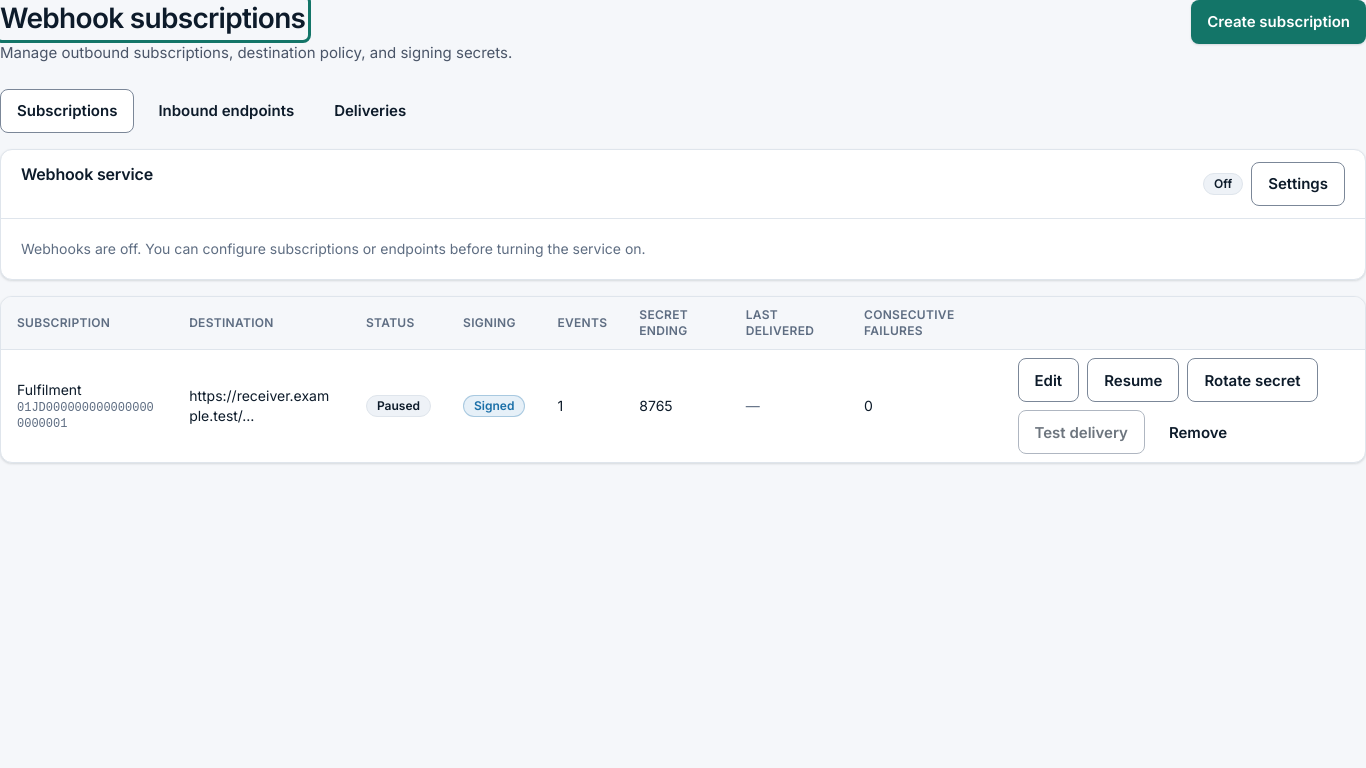
Test: Webhooks administration › offers setup while the service is off and saves only changed settings
Expected: the text "Webhooks are off" is shown, [21,240,646,257]
Click the button "Settings". click: (1298, 184)
box: [1251,162,1345,206]
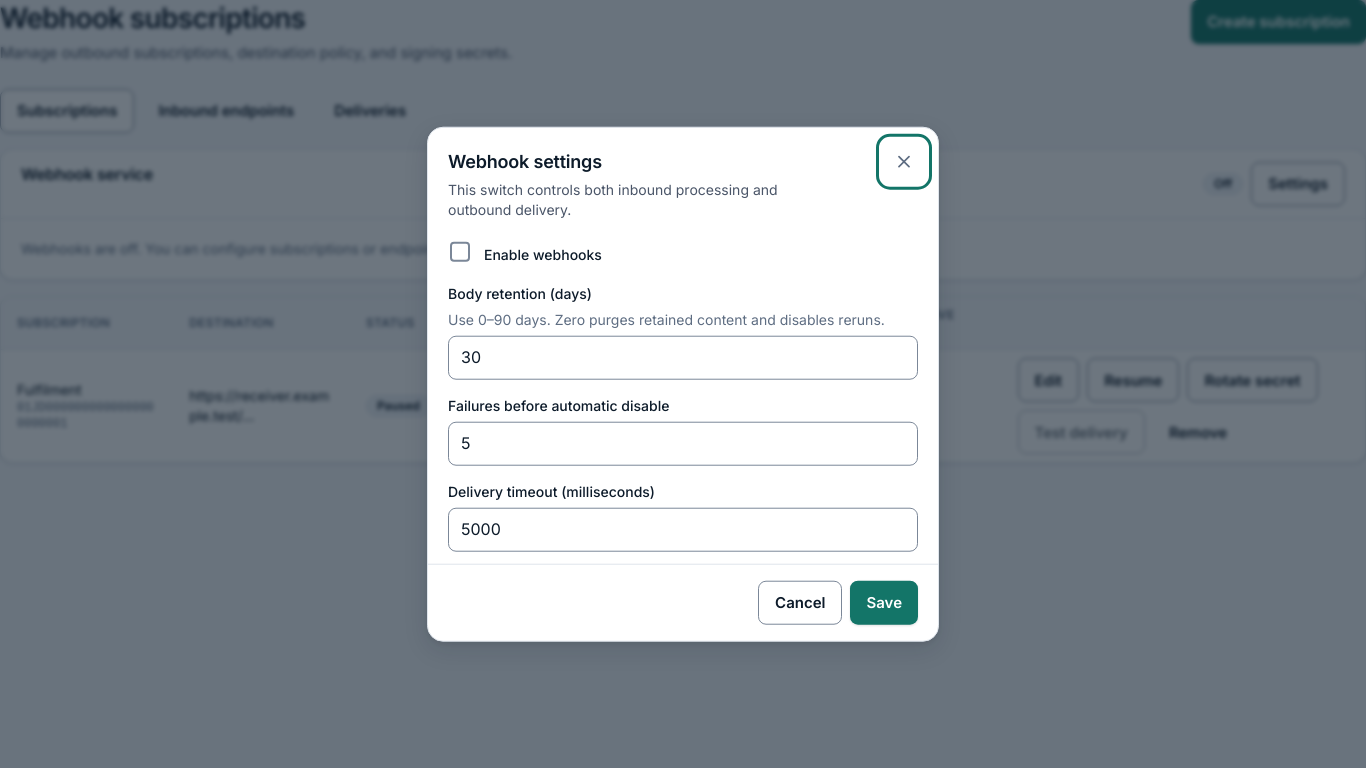
Click the checkbox named "Enable webhooks". click: (460, 252)
box: [450,242,470,262]
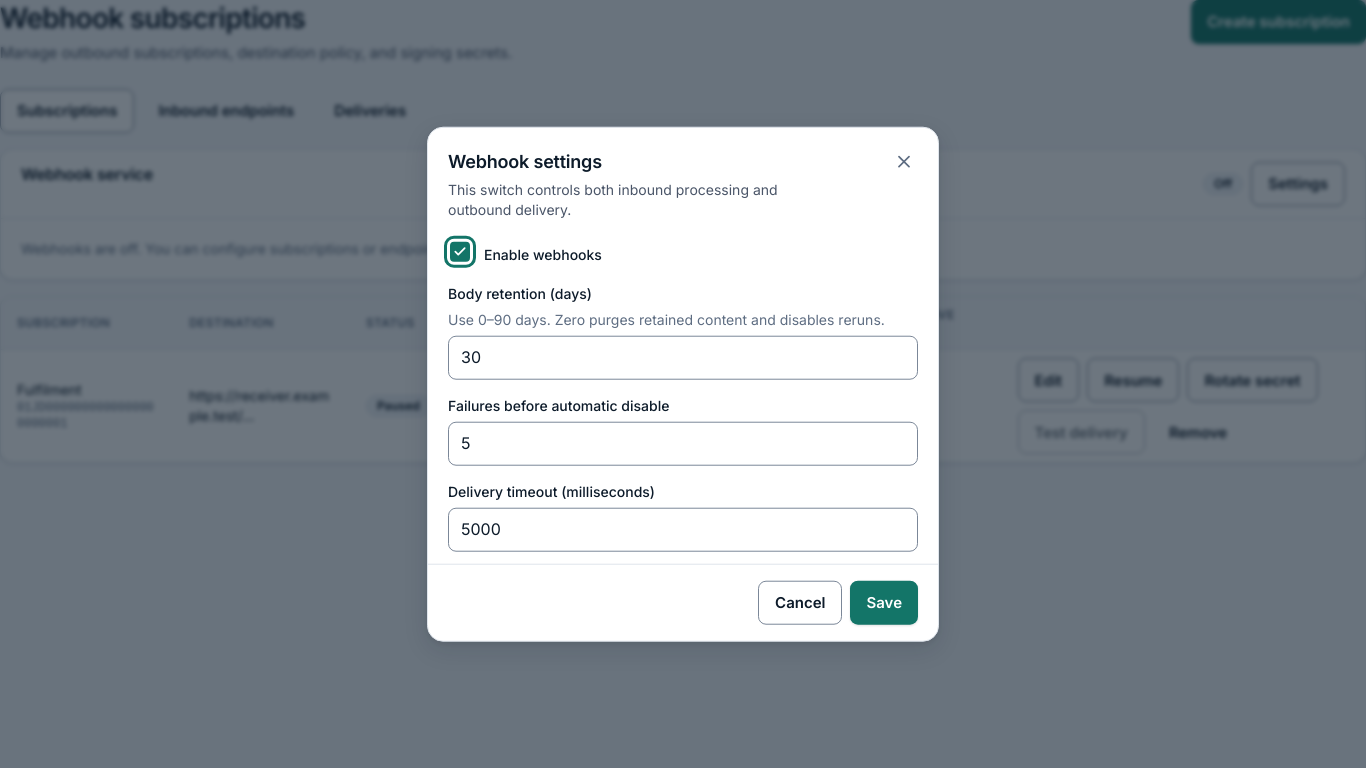
Click the button "Save". click: (884, 602)
box: [850,580,918,624]
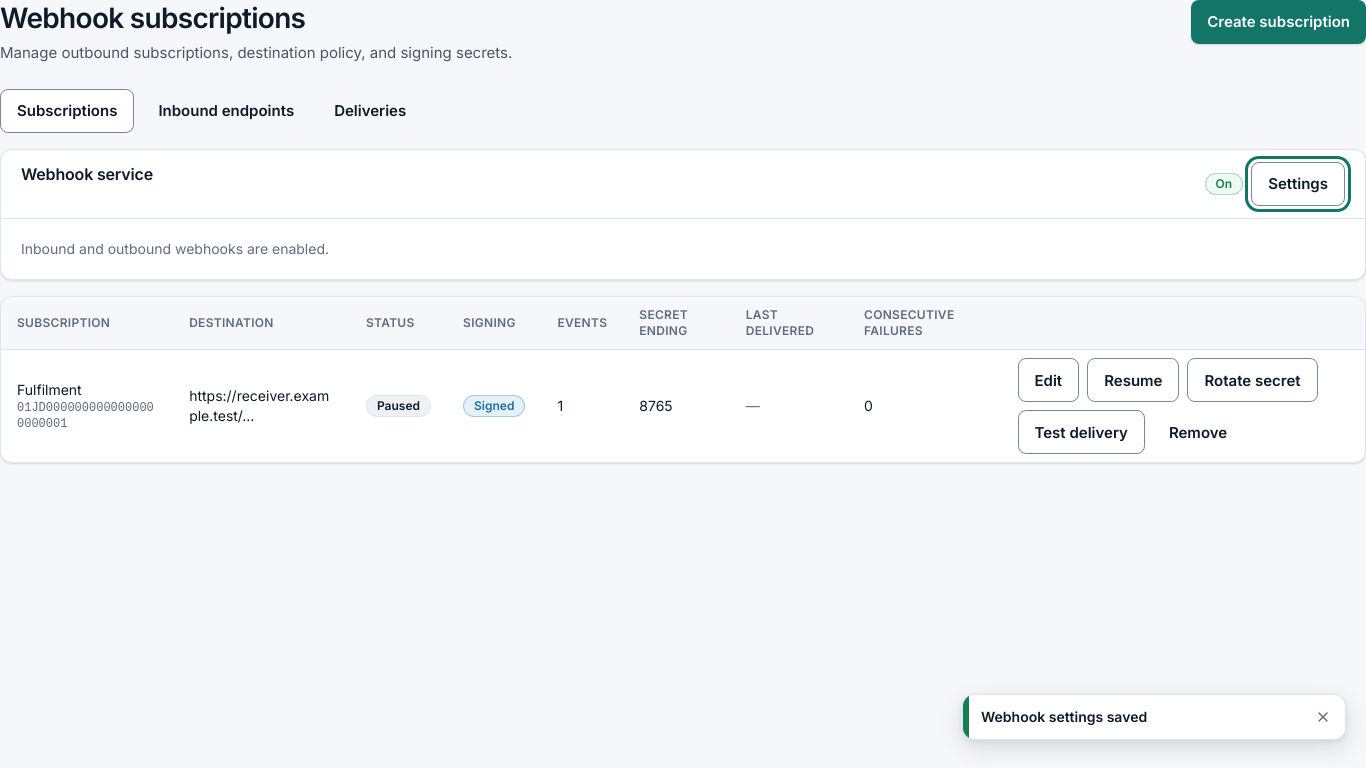
Now the text "Inbound and outbound webhooks are enabled." is shown, box [21,240,329,257]
